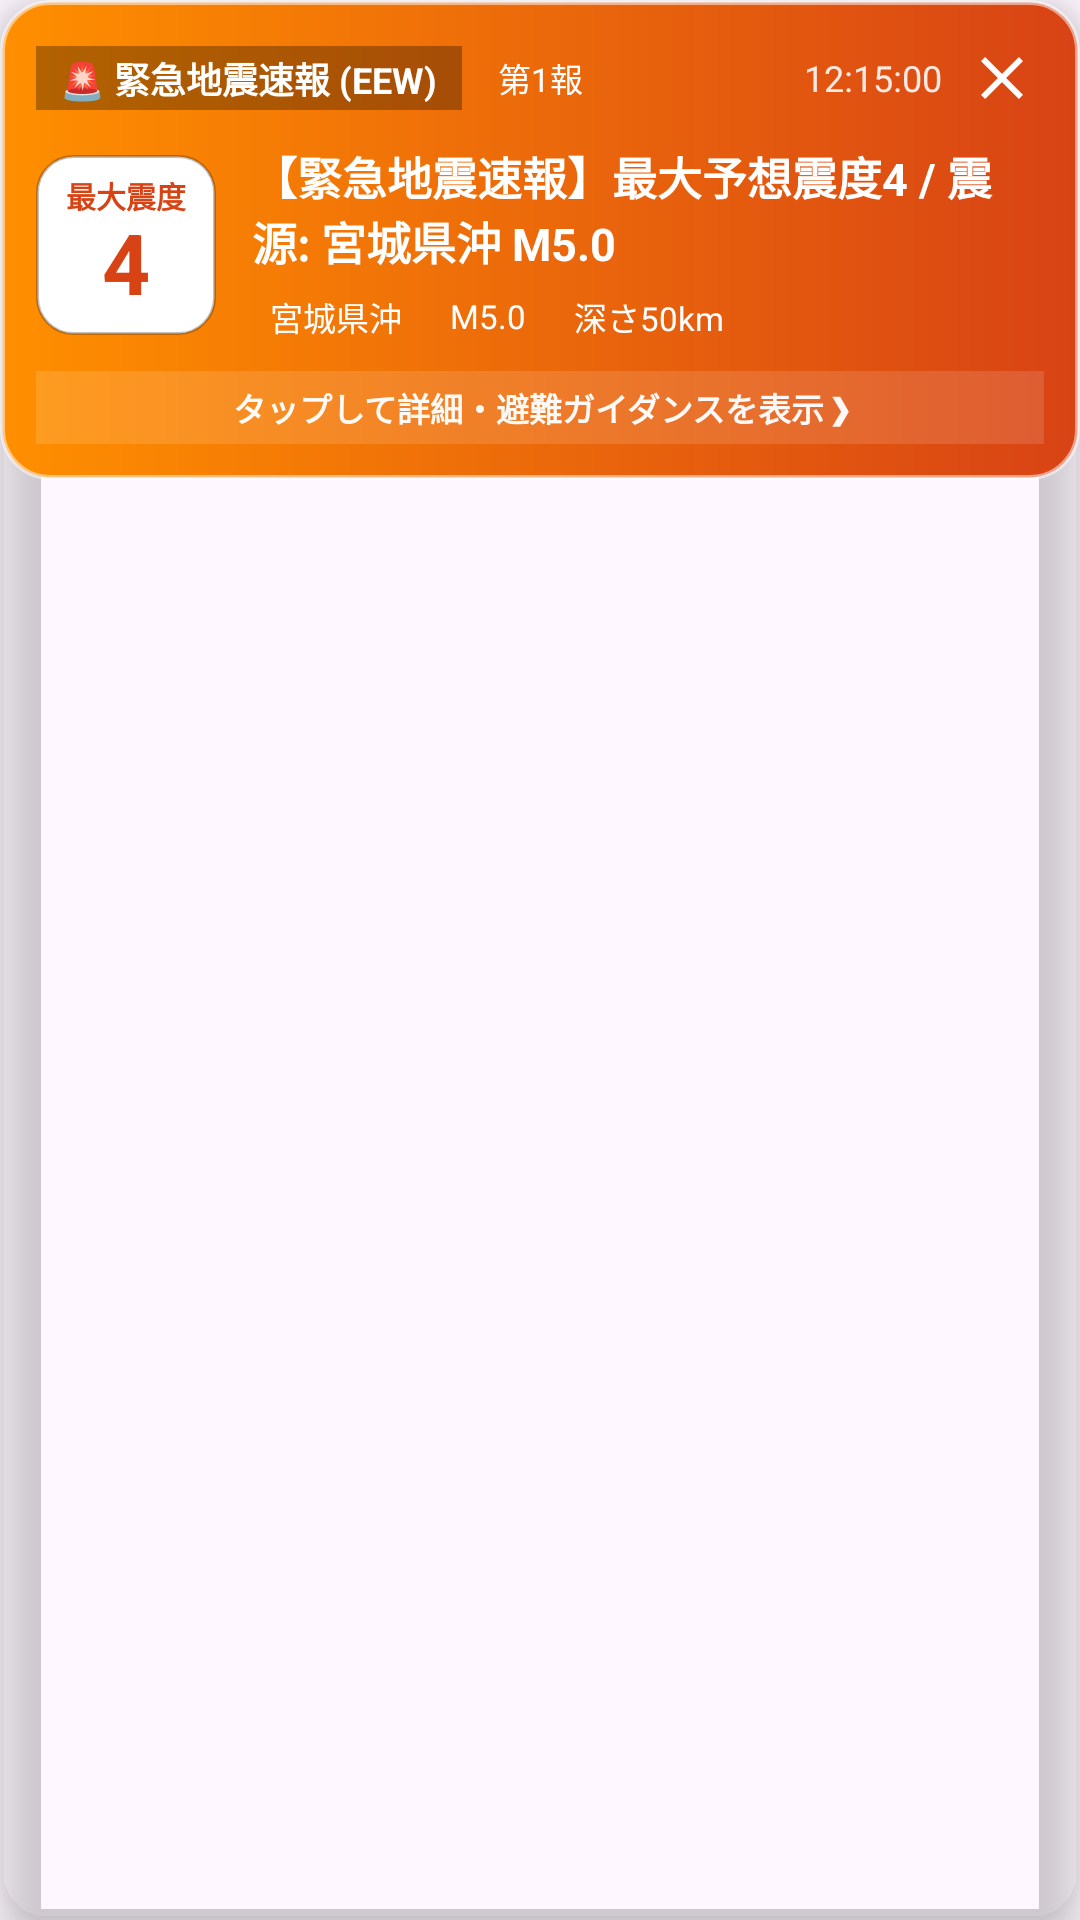

Screen size 1080×1920. Icon name, then its center in pixels as (x=x, y=y):
Close: (x=1002, y=78)
